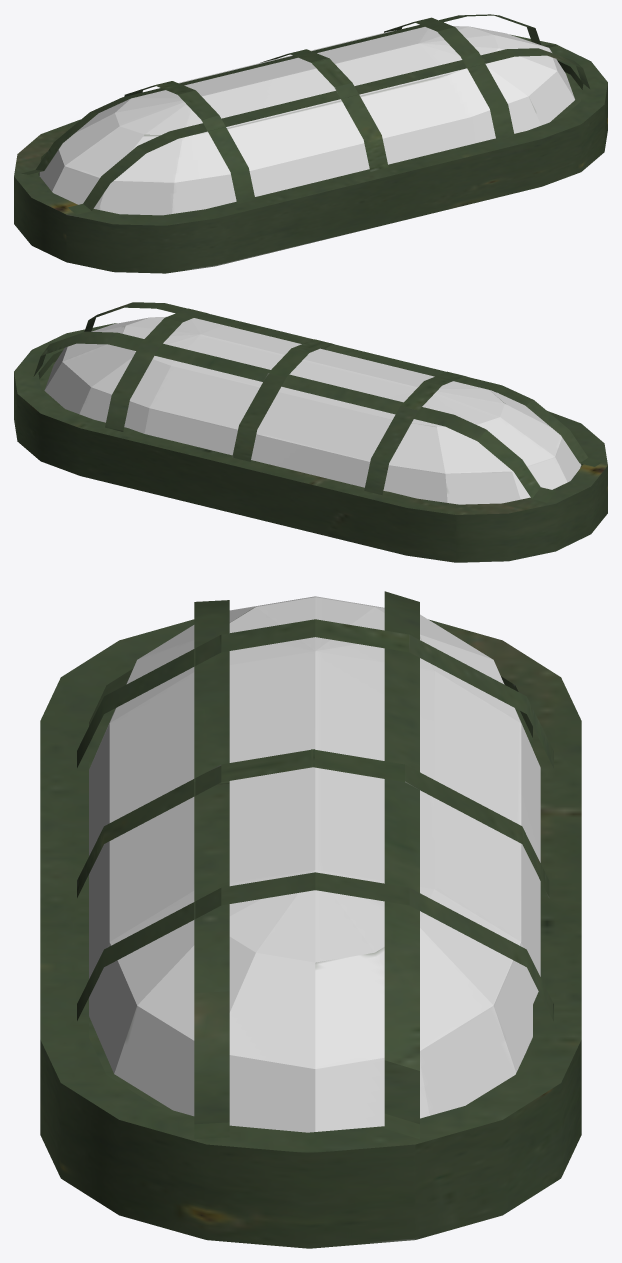
Rendered from LIGHT BUNKER.fbx.
3 renders of one model, top to bottom at view 1: azimuth 30°, elevation 25°; view 2: azimuth 150°, elevation 25°; view 3: azimuth 270°, elevation 25°, orthographic. The views are drawn at different scales.
Visible parts, largest first — view 1: Cube; view 2: Cube; view 3: Cube.
Boxes of the visible parts, x1,y1,x2,y2 form: Cube: (14, 14, 607, 273); Cube: (14, 302, 607, 562); Cube: (40, 591, 581, 1248).
Size of the model in its own units: 173 by 33.69 by 72.66.
